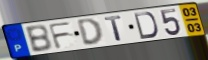5: (159, 8, 182, 36)
B: (24, 23, 54, 54)
D: (76, 17, 105, 47), (133, 11, 160, 41)
F: (47, 21, 74, 51)
T: (103, 15, 124, 43)
